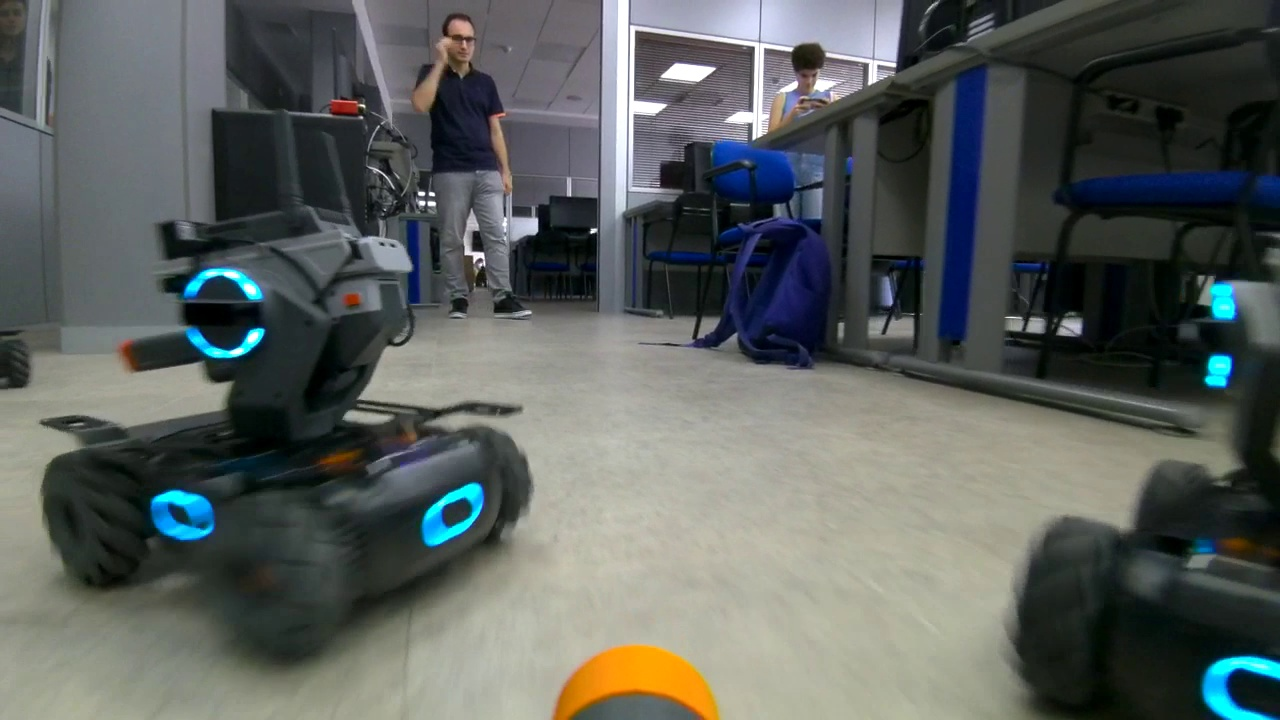robot: (33, 110, 542, 662)
